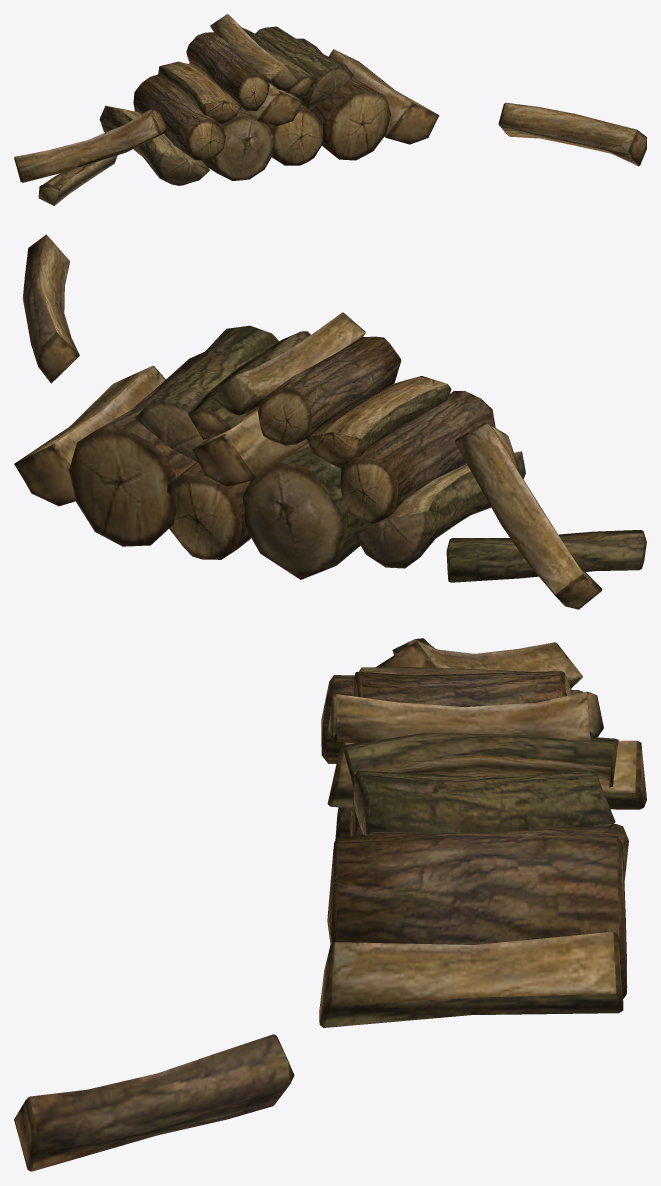
The picture shows the model from 3 angles, top to bottom: view 1: azimuth 30°, elevation 25°; view 2: azimuth 150°, elevation 25°; view 3: azimuth 270°, elevation 25°; orthographic projection. The views are drawn at different scales.
Parts seen in each view (by area): view 1: LV_Common_Object_A_Woodpile01_SM_CNH; view 2: LV_Common_Object_A_Woodpile01_SM_CNH; view 3: LV_Common_Object_A_Woodpile01_SM_CNH.
Boxes of the visible parts, x1,y1,x2,y2 form: LV_Common_Object_A_Woodpile01_SM_CNH: [14, 14, 646, 205]; LV_Common_Object_A_Woodpile01_SM_CNH: [14, 234, 646, 609]; LV_Common_Object_A_Woodpile01_SM_CNH: [14, 638, 646, 1171].
Bounding box in the file's own units: 0.6086 × 0.1402 × 0.3362.
1 material, 1 textured.
